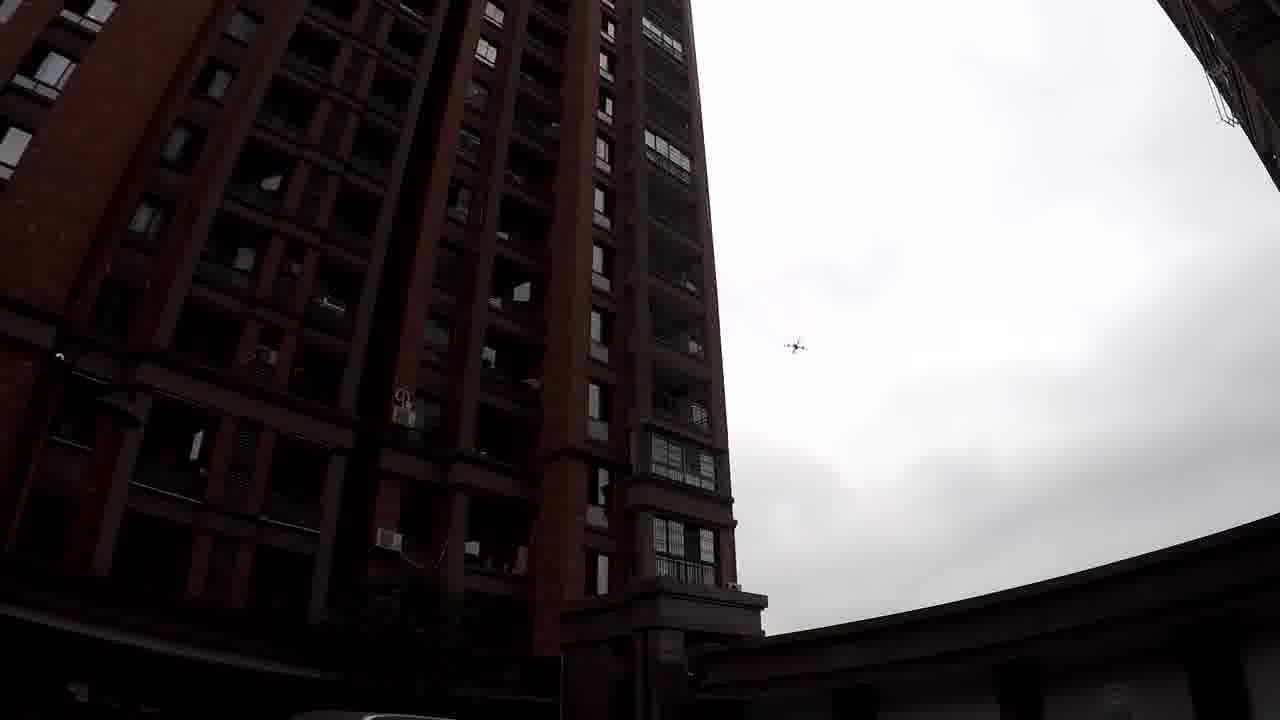drone: (779, 333, 808, 357)
